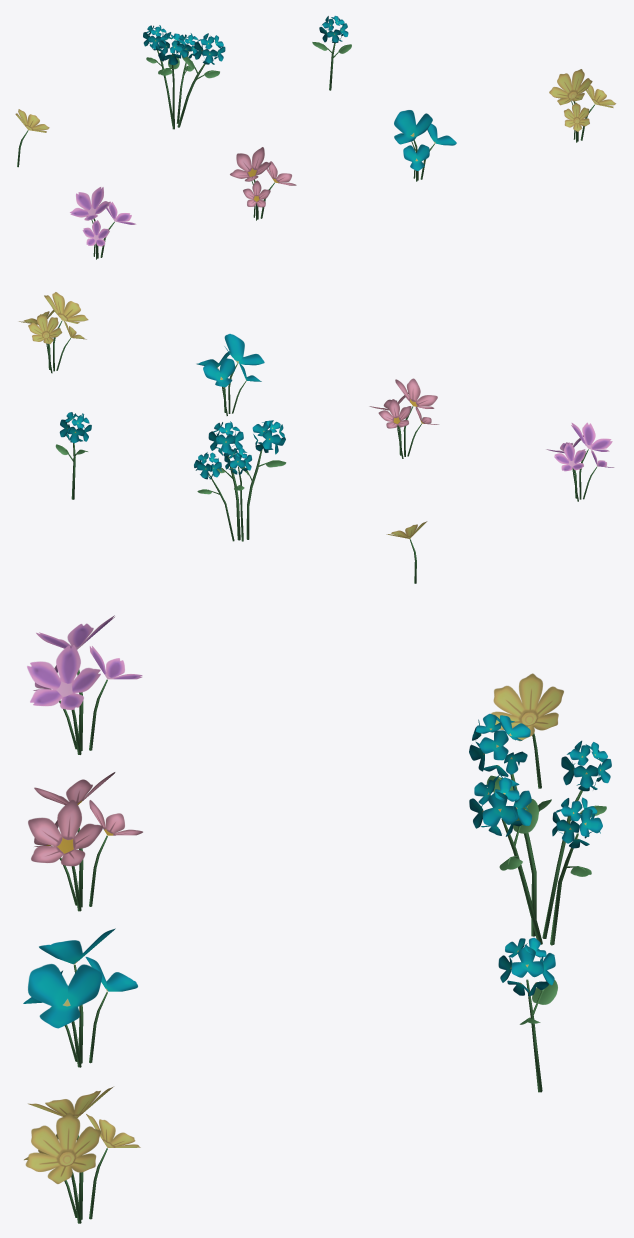
File: Flowers.glb
The picture shows the model from 3 angles, top to bottom: view 1: azimuth 30°, elevation 25°; view 2: azimuth 150°, elevation 25°; view 3: azimuth 270°, elevation 25°; orthographic projection. The views are drawn at different scales.
Visible parts, largest first — view 1: Flower_1_Clump, Flower_2_Clump, Flower_3_Clump, Flower_4_Clump, Flower_5_Clump, Flower_1, Flower_2; view 2: Flower_1_Clump, Flower_2_Clump, Flower_3_Clump, Flower_4_Clump, Flower_5_Clump, Flower_1; view 3: Flower_1_Clump, Flower_2_Clump, Flower_3_Clump, Flower_4_Clump, Flower_5_Clump, Flower_2, Flower_1.
Part boxes in pixels (box(x1,y1,x2,y2)): Flower_1_Clump: box(143, 25, 225, 129); Flower_2_Clump: box(549, 69, 615, 142); Flower_3_Clump: box(394, 110, 456, 181); Flower_4_Clump: box(230, 147, 296, 220); Flower_5_Clump: box(70, 187, 135, 259); Flower_1: box(312, 15, 351, 90); Flower_2: box(15, 109, 49, 167); Flower_1_Clump: box(194, 420, 286, 541); Flower_2_Clump: box(19, 292, 88, 373); Flower_3_Clump: box(196, 334, 264, 415); Flower_4_Clump: box(369, 378, 438, 458); Flower_5_Clump: box(546, 422, 614, 501); Flower_1: box(55, 412, 91, 499); Flower_1_Clump: box(469, 713, 611, 945); Flower_2_Clump: box(24, 1086, 140, 1223); Flower_3_Clump: box(23, 928, 137, 1067); Flower_4_Clump: box(28, 772, 142, 911); Flower_5_Clump: box(27, 615, 142, 754); Flower_2: box(491, 673, 563, 788); Flower_1: box(498, 937, 557, 1092).
Size of the model in its own units: 3.59 by 0.6742 by 1.71.
Materials: 1 (1 with a texture image).
